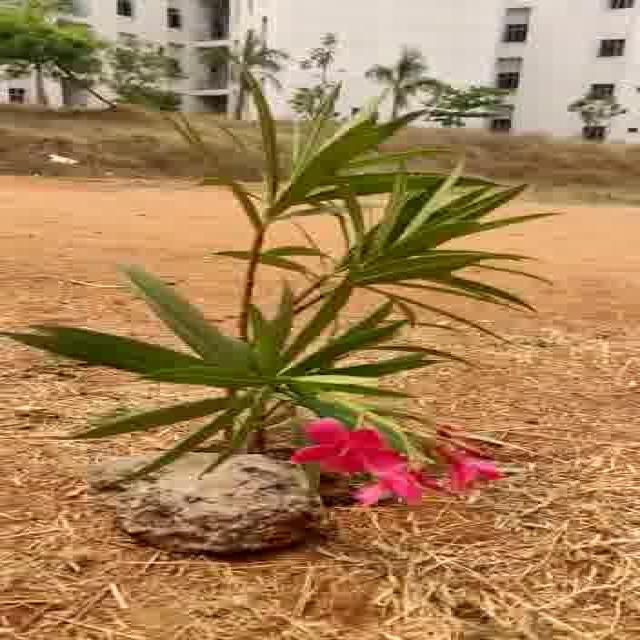OLEANDER: (0, 63, 640, 465)
